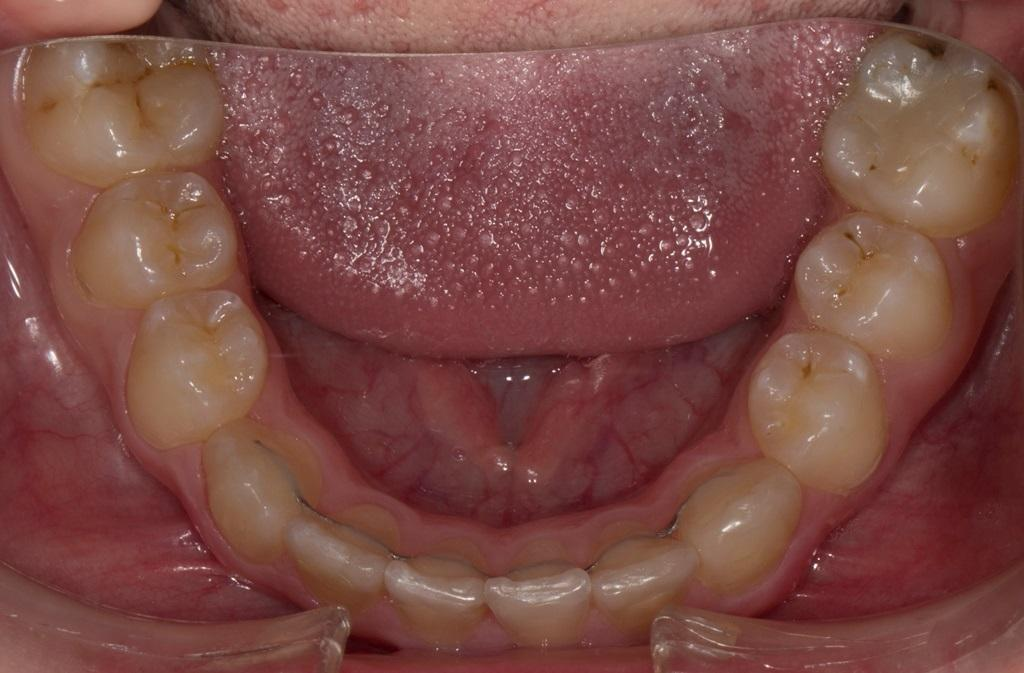LL1BC_decay: (741, 324, 888, 495)
LL1M_healthy: (818, 42, 1024, 230)
LL2BC_decay: (788, 212, 965, 363)
LLCI_decay: (487, 551, 594, 646)
LLC_decay: (664, 457, 809, 591)
LLLI_decay: (592, 525, 693, 623)
LR1BC_healthy: (115, 284, 272, 449)
LR1M_decay: (13, 42, 225, 186)
LR2BC_decay: (72, 172, 243, 301)
LRCI_decay: (383, 534, 494, 633)
LRC_decay: (202, 427, 320, 566)
LRLI_decay: (294, 504, 406, 595)
